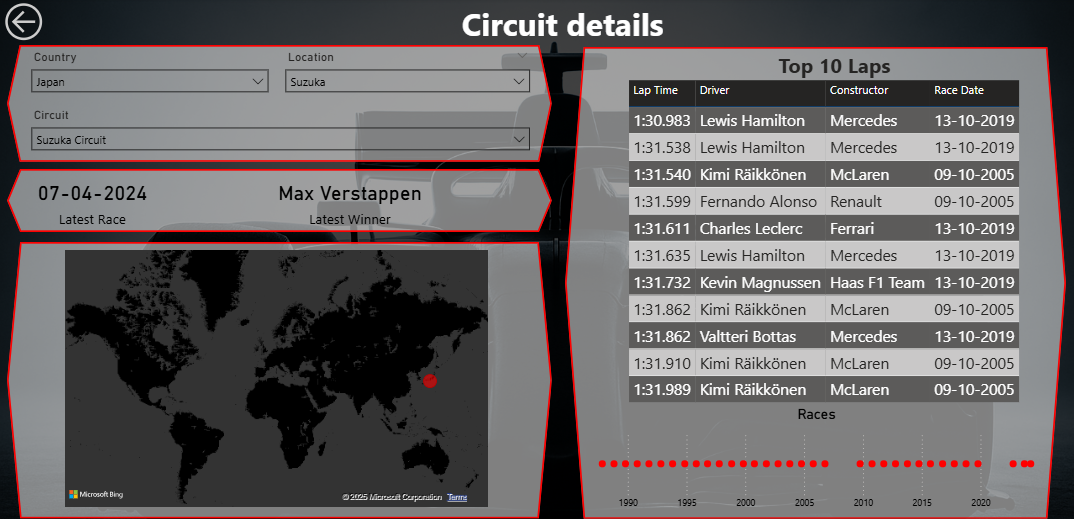

Layout of this report page (visuals, bound fields, positions):
{"tool":"powerbi","page":{"name":"Circuits","canvas":[1280,620],"ordinal":5},"visuals":[{"type":"shape","box":[8.3,290.4,648.3,328.9],"z":0},{"type":"shape","box":[8.3,203.4,648.3,74.9],"z":1000},{"type":"shape","box":[672.1,58.3,596,561.5],"z":2000},{"type":"shape","box":[8.3,56.4,648.3,139],"z":3000},{"type":"textbox","box":[57.8,0,1222.2,59.2],"z":4000},{"type":"map","fields":{"Category":["races.circuit_location"]},"box":[72.9,294.5,513.4,315.2],"z":5000},{"type":"card","fields":{"Values":["circuits.Latest Race on Circuit"]},"box":[27.4,203.4,165.4,74.9],"z":6000},{"type":"card","fields":{"Values":["races.Latest Winner on Track"]},"box":[192.7,203.4,447.3,74.9],"z":7000},{"type":"textbox","box":[742.5,58.8,500.6,48.7],"z":8000},{"type":"tableEx","fields":{"Values":["lap_times.time","lap_times.diverName","lap_times.constructorName","lap_times.lapsRaceDate"]},"box":[741.8,92.2,501,393],"z":9000},{"type":"slicer","fields":{"Values":["circuits.country"]},"box":[26.9,57.1,302.4,68.9],"z":10000},{"type":"slicer","fields":{"Values":["circuits.location"]},"box":[329.2,57.1,310.8,68.9],"z":11000},{"type":"slicer","fields":{"Values":["circuits.name"]},"box":[26.9,126,613.1,68.9],"z":12000},{"type":"lineChart","title":"Races","fields":{"Category":["races.date"],"Y":["CountNonNull(races.raceId)"]},"box":[699.2,485.8,543.7,133.5],"z":13000},{"type":"actionButton","box":[0,0,57.8,56.4],"z":14000}]}

Visuals, with their boxes in screenshot pixels (x1, y1, x2, y2), scaled from the page's 1280x620 canvas onto the 1074x519 screenshot:
shape: 7/243/551/518
shape: 7/170/551/233
shape: 564/49/1064/518
shape: 7/47/551/164
textbox: 48/0/1073/50
map - races.circuit_location: 61/247/492/510
card - circuits.Latest Race on Circuit: 23/170/162/233
card - races.Latest Winner on Track: 162/170/537/233
textbox: 623/49/1043/90
tableEx - lap_times.time x lap_times.diverName: 622/77/1043/406
slicer - circuits.country: 23/48/276/105
slicer - circuits.location: 276/48/537/105
slicer - circuits.name: 23/105/537/163
"Races" lineChart: 587/407/1043/518
actionButton: 0/0/48/47
